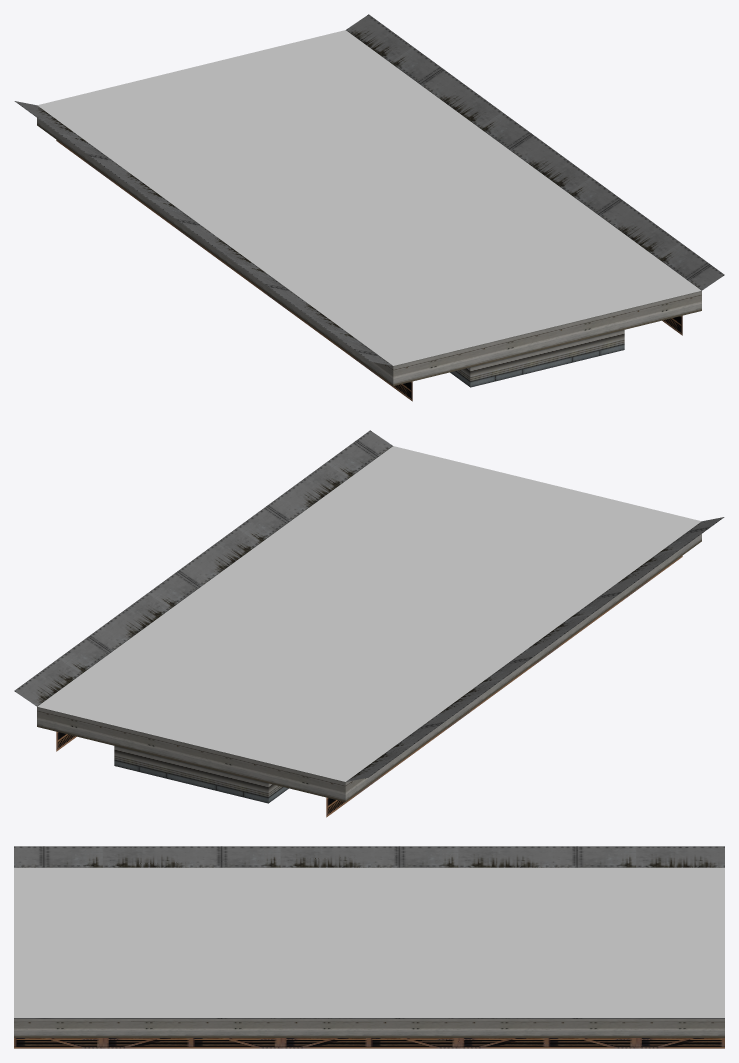
Rendered from Str.fbx.
3 views of the same model, one above another, from view 1: azimuth 30°, elevation 25°; view 2: azimuth 150°, elevation 25°; view 3: azimuth 270°, elevation 25° (orthographic).
Visible parts, largest first — view 1: Empty_Mesh; view 2: Empty_Mesh; view 3: Empty_Mesh.
Part boxes in pixels (left/top/right/bottom): Empty_Mesh: left=14, top=14, right=724, bottom=401; Empty_Mesh: left=14, top=430, right=724, bottom=817; Empty_Mesh: left=14, top=846, right=724, bottom=1048.
Bounding box in the file's own units: 18.4 × 2.5 × 32.
